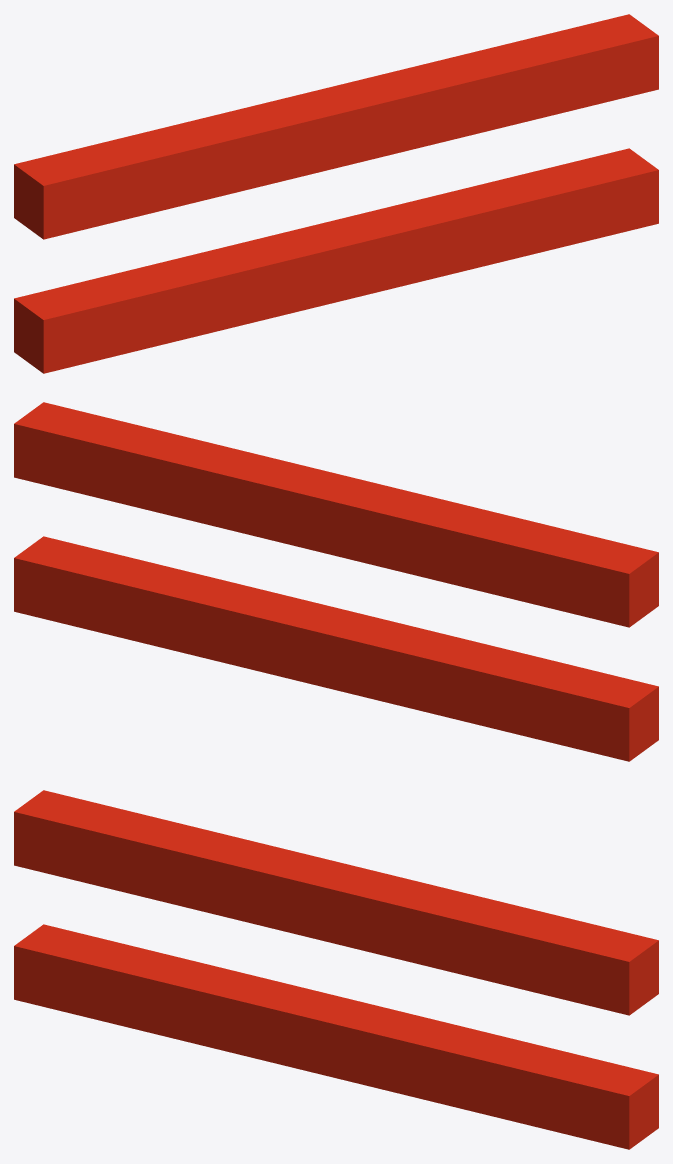
File: colour_gate_lock.fbx
3 renders of one model, top to bottom at view 1: azimuth 30°, elevation 25°; view 2: azimuth 150°, elevation 25°; view 3: azimuth 330°, elevation 25°, orthographic.
Parts seen in each view (by area): view 1: colour gate lock; view 2: colour gate lock; view 3: colour gate lock.
Part boxes in pixels (left/top/right/bottom): colour gate lock: left=14, top=14, right=658, bottom=373; colour gate lock: left=14, top=402, right=658, bottom=761; colour gate lock: left=14, top=790, right=658, bottom=1149.
Size of the model in its own units: 2.4 by 0.7 by 0.2.
Materials: 1 (1 with a texture image).
